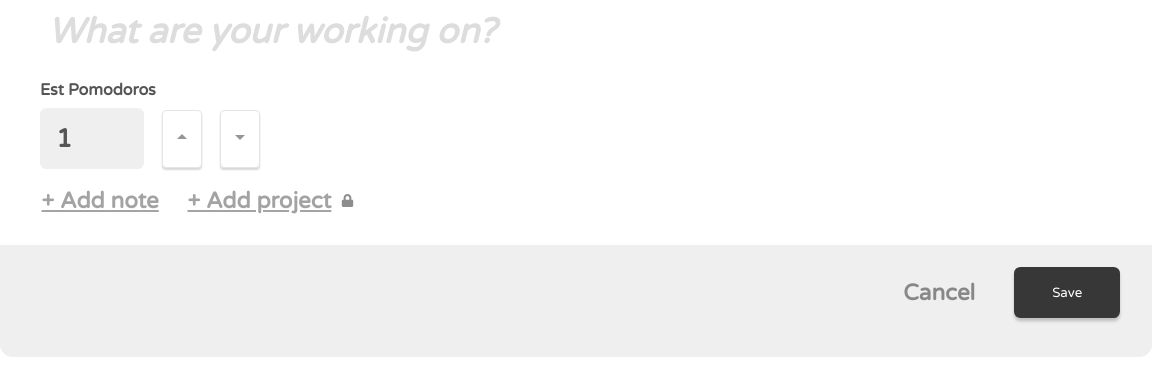
Test: <CardAddTask /> › should be able increment counter est
Click the button with test id "button-increment": (182, 139) [162,110,202,168]
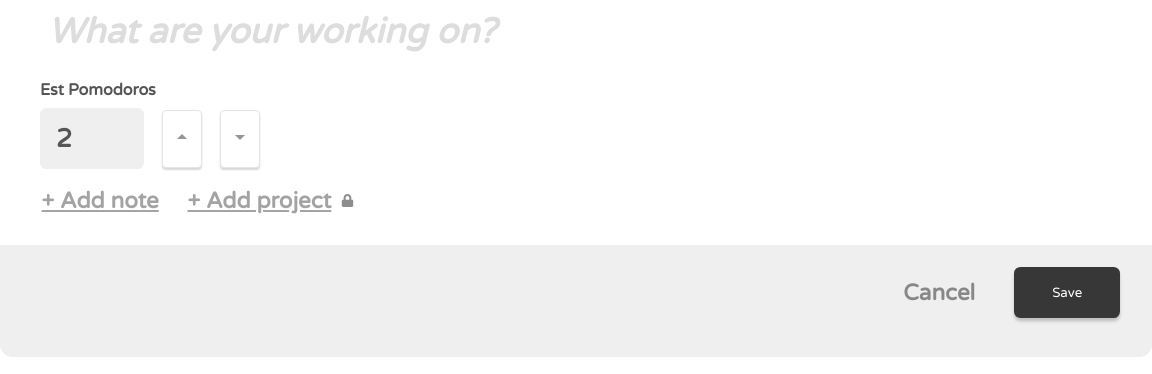
Click the button with test id "button-increment": (182, 139) [162,110,202,168]
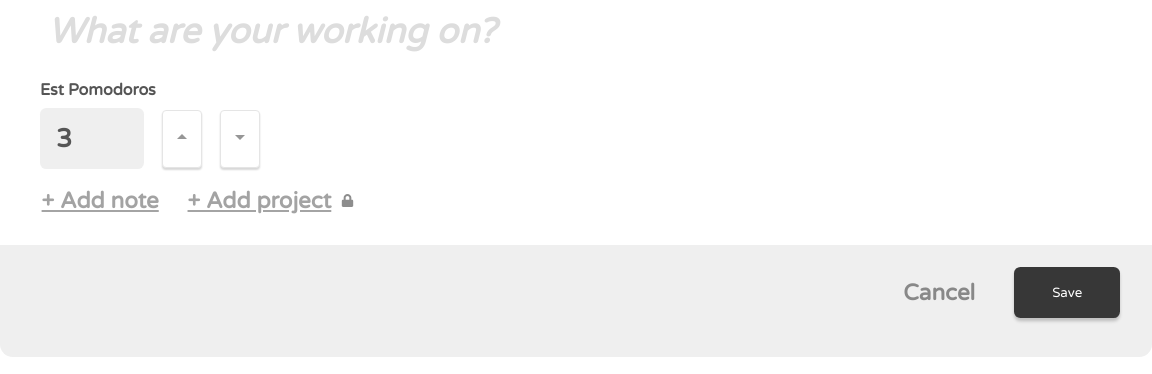
Click the button with test id "button-increment": (182, 139) [162,110,202,168]
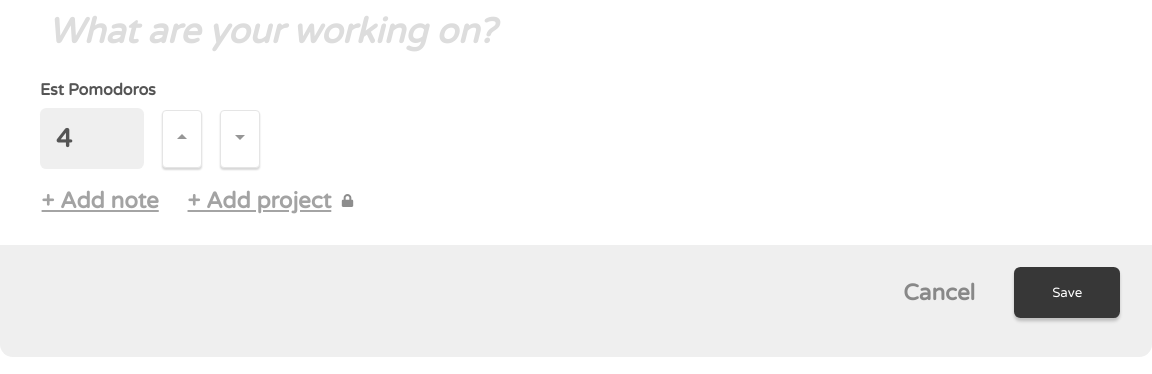
Expected: the number field with test id "input-counter" holds "4", [40,108,144,169]
